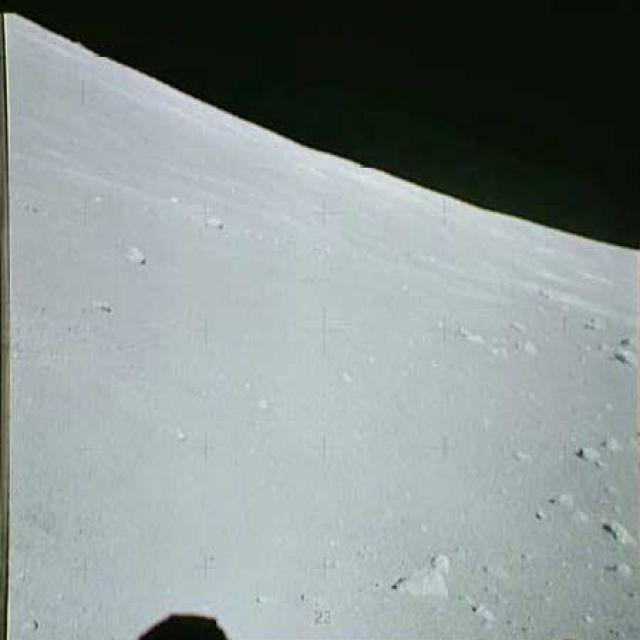rock: (387, 551, 462, 601), (602, 504, 638, 550), (450, 316, 486, 355), (118, 233, 151, 268), (612, 328, 638, 368), (545, 485, 572, 511), (576, 312, 607, 334), (572, 438, 598, 464)
